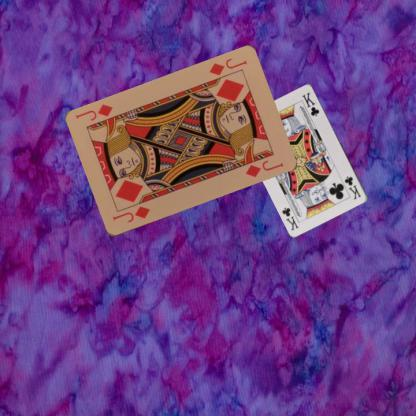Jd: (206, 56, 249, 77), (110, 203, 152, 224)
Kc: (342, 174, 362, 201)
